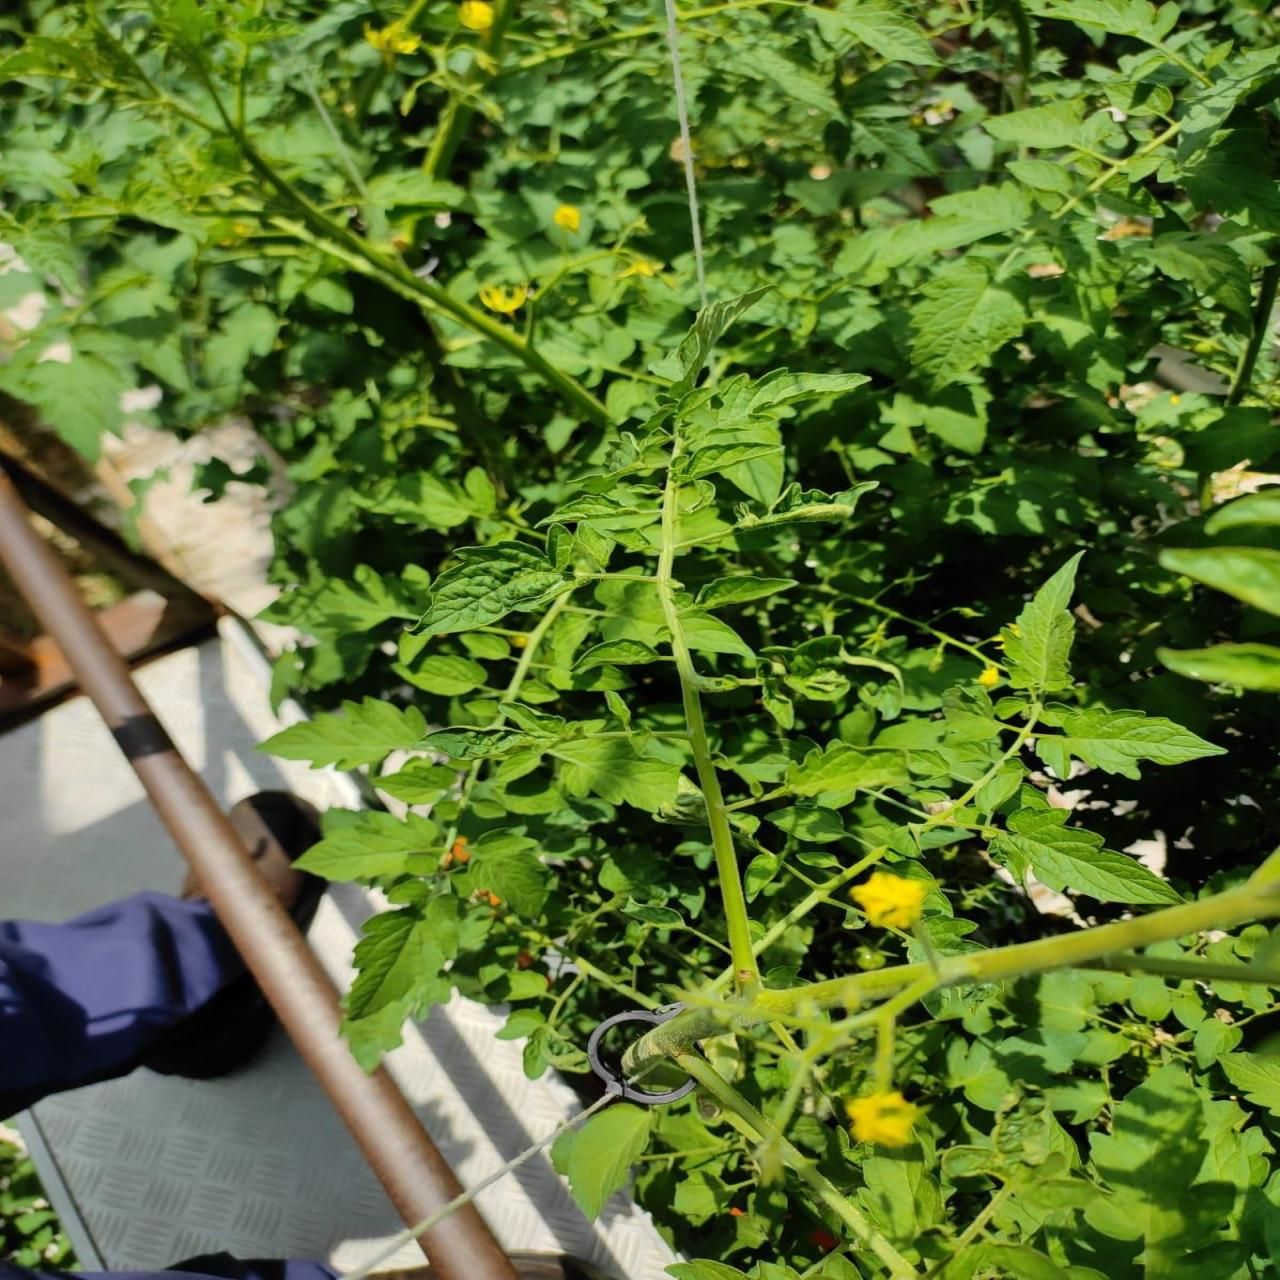T_L_H: (298, 811, 546, 1062)
T_S_H: (669, 619, 760, 985), (782, 1143, 922, 1280)
